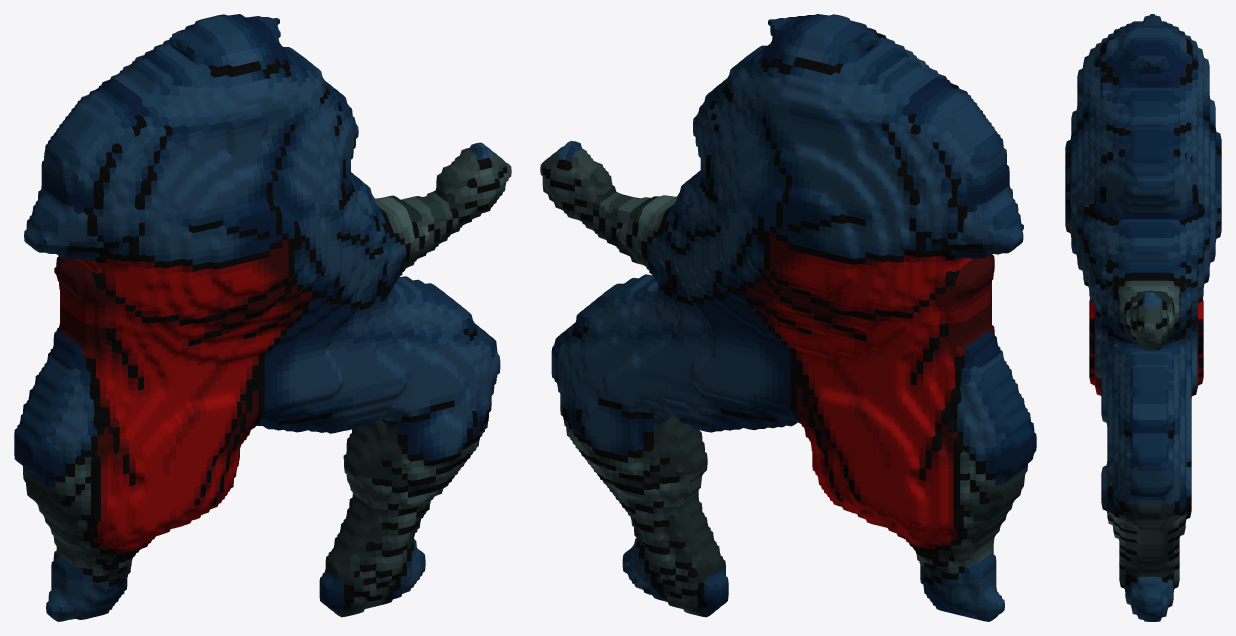
File: Fight_017_2_01.obj
3 renders of one model, left to right at view 1: azimuth 30°, elevation 25°; view 2: azimuth 150°, elevation 25°; view 3: azimuth 270°, elevation 25°, orthographic. The views are drawn at different scales.
Bounding box in the file's own units: 7.9 × 9.6 × 2.6.
Materials: 1 (1 with a texture image).
